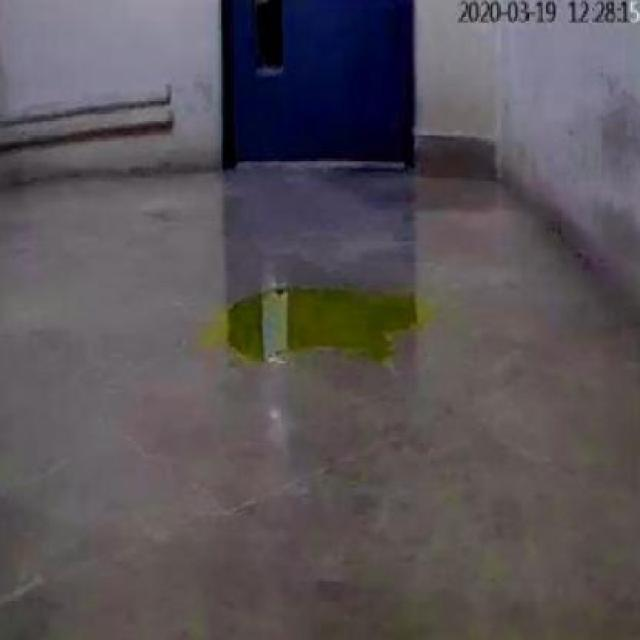spillage: (226, 288, 417, 364)
